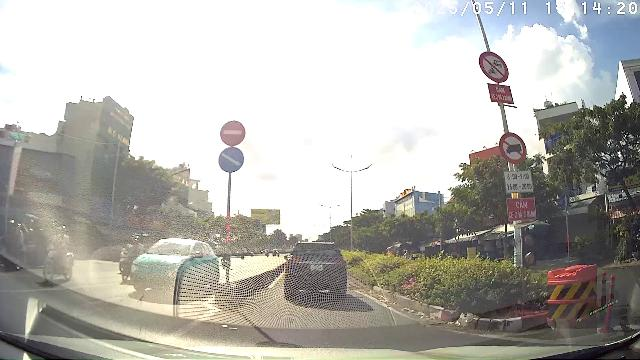102-cam-di-nguoc-chieu: (220, 121, 246, 146)
302a-huong-phai-di-vong-chuong-ngai-vat-1: (218, 148, 244, 172)
